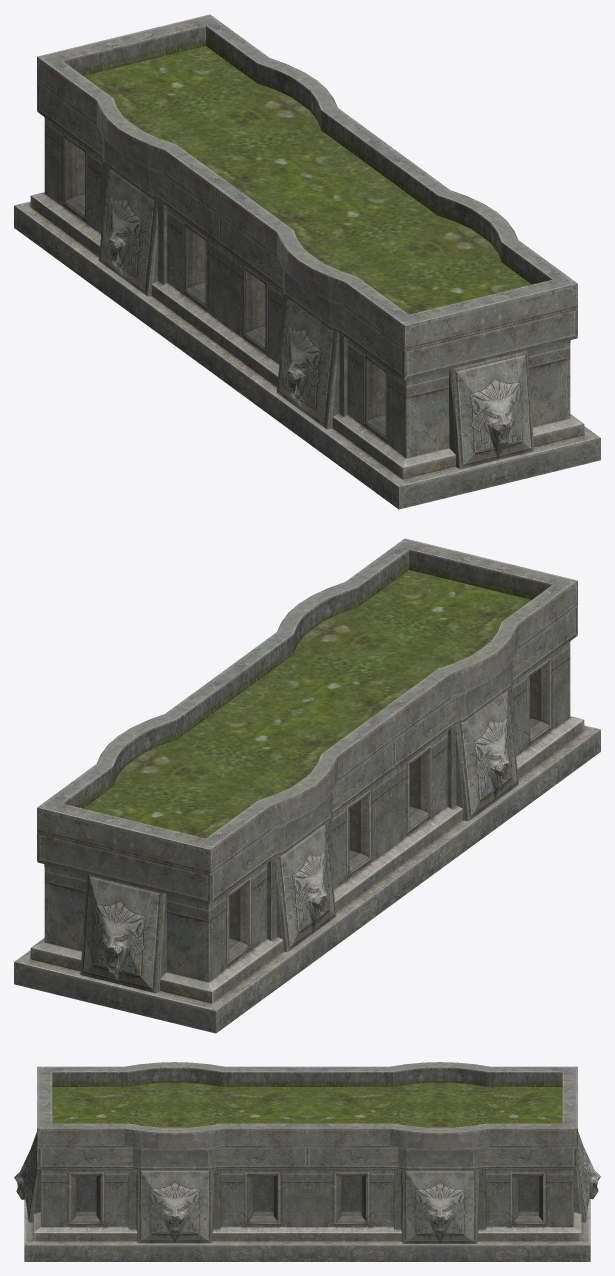
Rendered from bg_lut_lucastle_flowergarden01_sm_artree.FBX.
3 views of the same model, one above another, from view 1: azimuth 30°, elevation 25°; view 2: azimuth 150°, elevation 25°; view 3: azimuth 270°, elevation 25° (orthographic). The views are drawn at different scales.
Visible parts, largest first — view 1: bg_lut_lucastle_flowergarden01_sm_artree; view 2: bg_lut_lucastle_flowergarden01_sm_artree; view 3: bg_lut_lucastle_flowergarden01_sm_artree.
Part boxes in pixels (x1,y1,x2,y2): bg_lut_lucastle_flowergarden01_sm_artree: (14,14,600,509); bg_lut_lucastle_flowergarden01_sm_artree: (14,538,600,1033); bg_lut_lucastle_flowergarden01_sm_artree: (14,1062,600,1261).
Bounding box in the file's own units: 104 × 77.26 × 321.
